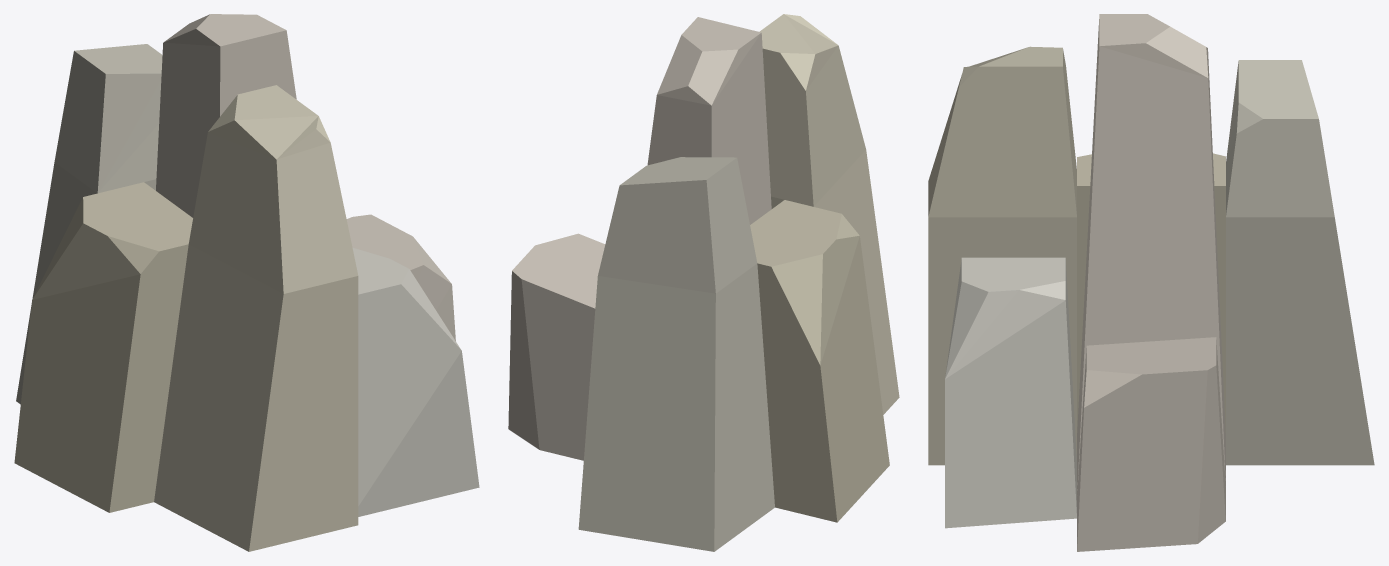
File: Rocks_Square_l_01.fbx
3 renders of one model, left to right at view 1: azimuth 30°, elevation 25°; view 2: azimuth 150°, elevation 25°; view 3: azimuth 270°, elevation 25°, orthographic. The views are drawn at different scales.
Parts seen in each view (by area): view 1: Rocks_Square_l_01; view 2: Rocks_Square_l_01; view 3: Rocks_Square_l_01.
Part boxes in pixels (x1,y1,x2,y2): Rocks_Square_l_01: (14,14,479,551); Rocks_Square_l_01: (508,14,899,551); Rocks_Square_l_01: (928,14,1374,551).
Size of the model in its own units: 301 by 330 by 314.
